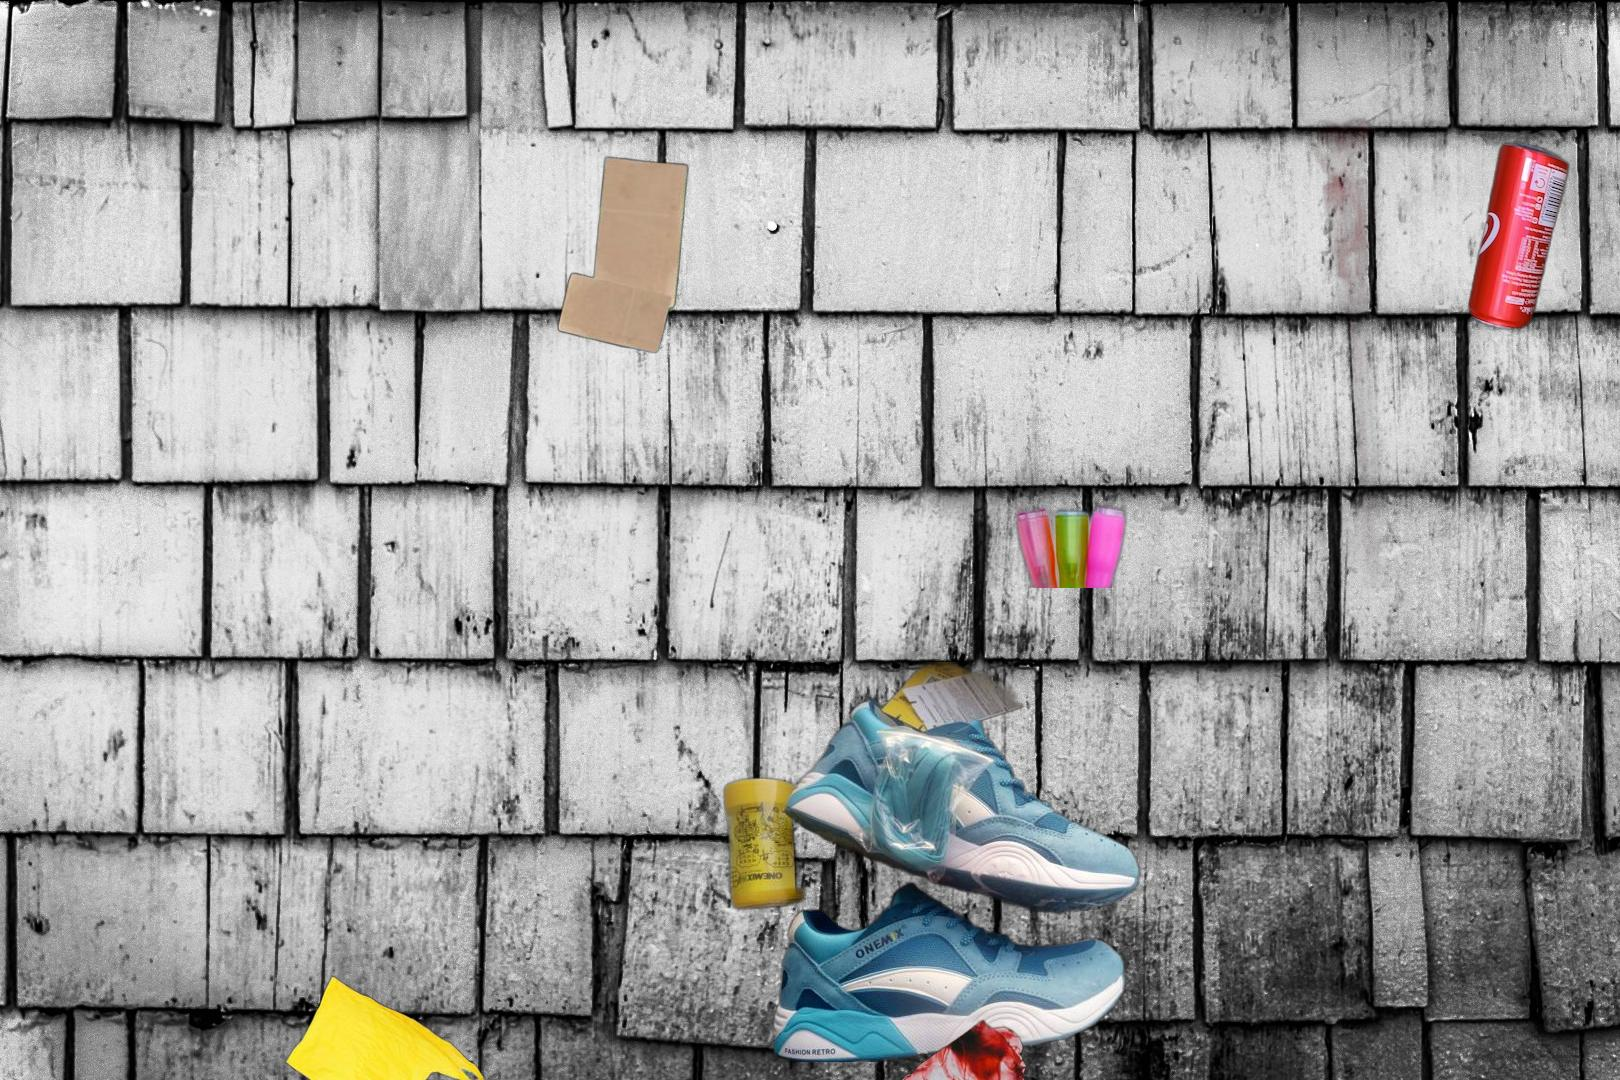metal-cans: (1465, 136, 1573, 335)
paper-bag: (556, 153, 691, 356)
penholder: (928, 66, 1495, 588)
plastic-bag: (283, 974, 528, 1080), (879, 1019, 1029, 1080)
shoes: (720, 662, 1144, 1062)
